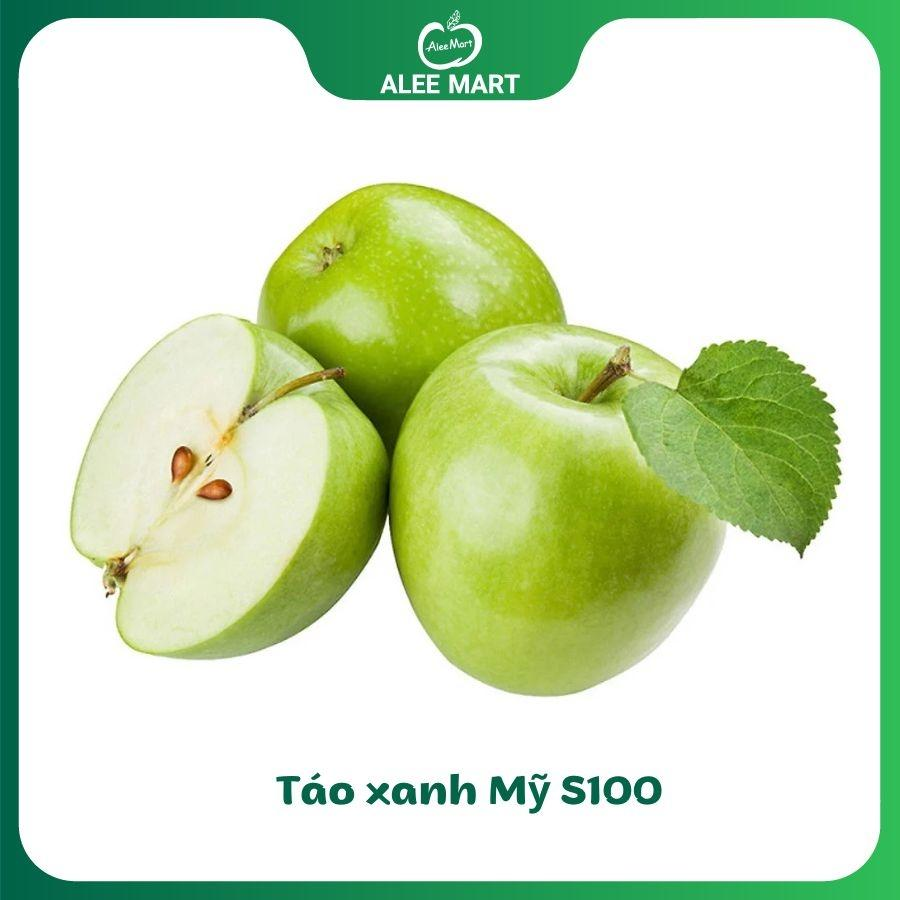apples: (57, 178, 846, 718)
